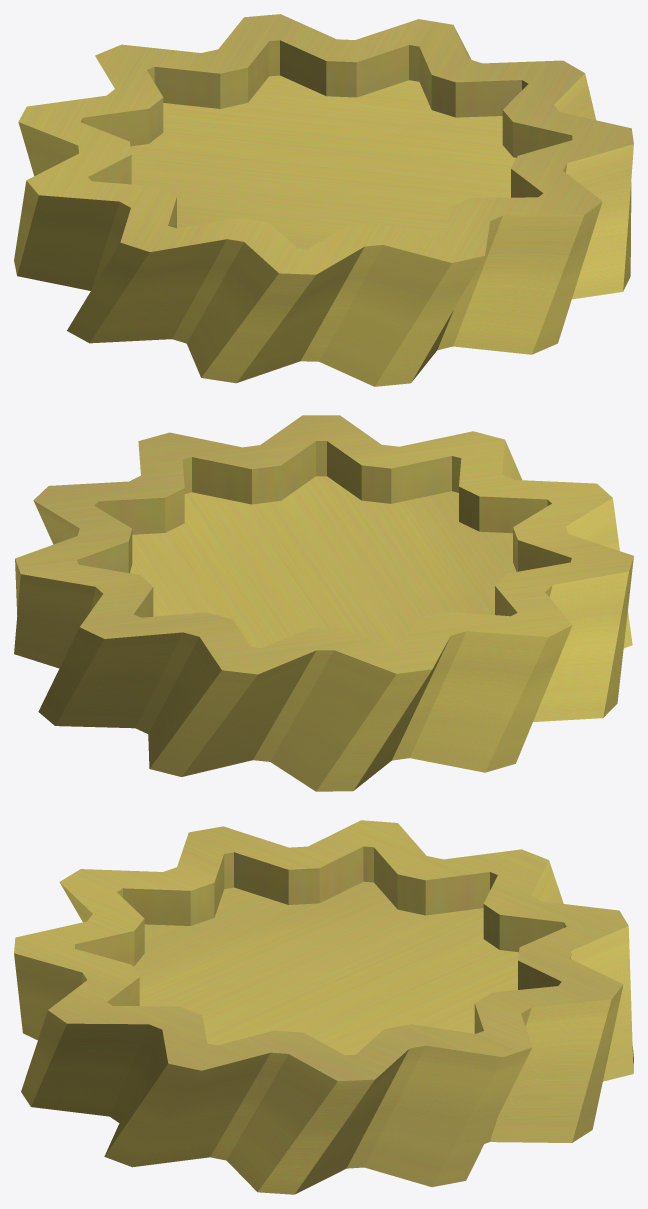
Rendered from CogFacetSpiralOpp011.fbx.
3 renders of one model, top to bottom at view 1: azimuth 30°, elevation 25°; view 2: azimuth 150°, elevation 25°; view 3: azimuth 270°, elevation 25°, orthographic.
Visible parts, largest first — view 1: CogFacetSpiralOpp011; view 2: CogFacetSpiralOpp011; view 3: CogFacetSpiralOpp011.
Part boxes in pixels (left/top/right/bottom): CogFacetSpiralOpp011: left=14, top=14, right=633, bottom=386; CogFacetSpiralOpp011: left=14, top=415, right=633, bottom=791; CogFacetSpiralOpp011: left=14, top=820, right=633, bottom=1194.
Size of the model in its own units: 107 by 21.75 by 107.
